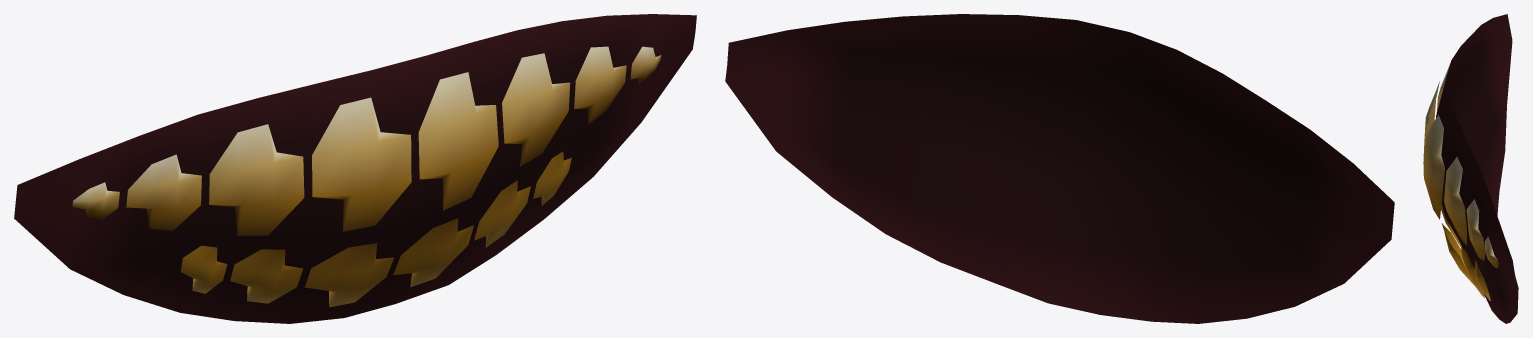
File: grill_gold_female_hi.glb
3 views of the same model, side by side, from view 1: azimuth 30°, elevation 25°; view 2: azimuth 150°, elevation 25°; view 3: azimuth 270°, elevation 25° (orthographic). The views are drawn at different scales.
Visible parts, largest first — view 1: grill_gold_female_hi; view 2: grill_gold_female_hi; view 3: grill_gold_female_hi.
Part boxes in pixels (x1,y1,x2,y2): grill_gold_female_hi: [14, 14, 696, 323]; grill_gold_female_hi: [725, 14, 1394, 323]; grill_gold_female_hi: [1423, 14, 1518, 323].
Size of the model in its own units: 0.1204 by 0.0455 by 0.0196.
